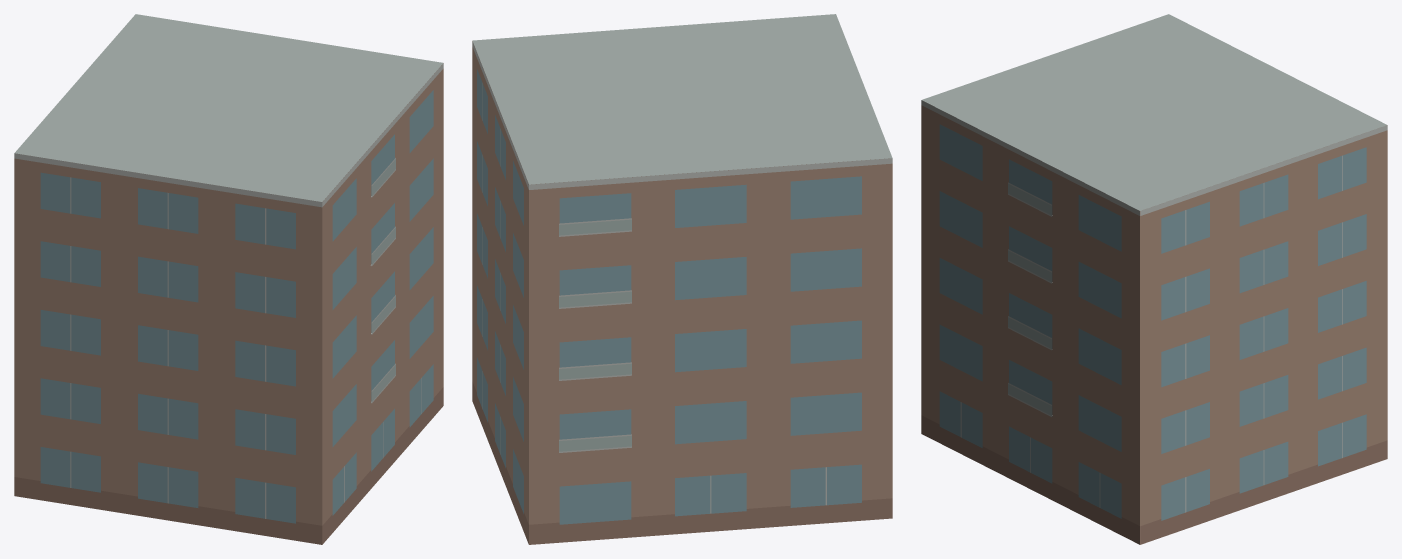
Rendered from survey-upis-32996733.glb.
The picture shows the model from 3 angles, left to right: view 1: azimuth 30°, elevation 25°; view 2: azimuth 150°, elevation 25°; view 3: azimuth 270°, elevation 25°; orthographic projection. The views are drawn at different scales.
Parts seen in each view (by area): view 1: survey-upis-32996733.tmp; view 2: survey-upis-32996733.tmp; view 3: survey-upis-32996733.tmp.
Part boxes in pixels (x1=…): survey-upis-32996733.tmp: x1=14, y1=14, x2=443, y2=544; survey-upis-32996733.tmp: x1=472, y1=14, x2=892, y2=544; survey-upis-32996733.tmp: x1=921, y1=14, x2=1387, y2=544.
Size of the model in its own units: 20.13 by 15.9 by 20.13.
